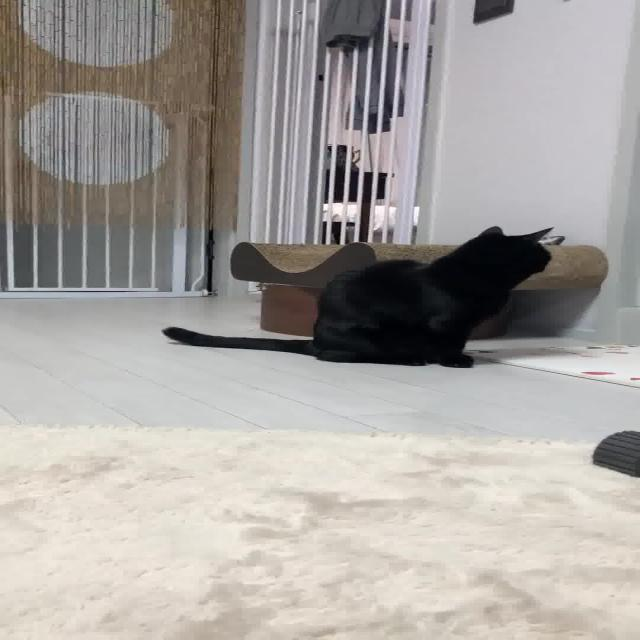cat: (147, 218, 586, 382)
